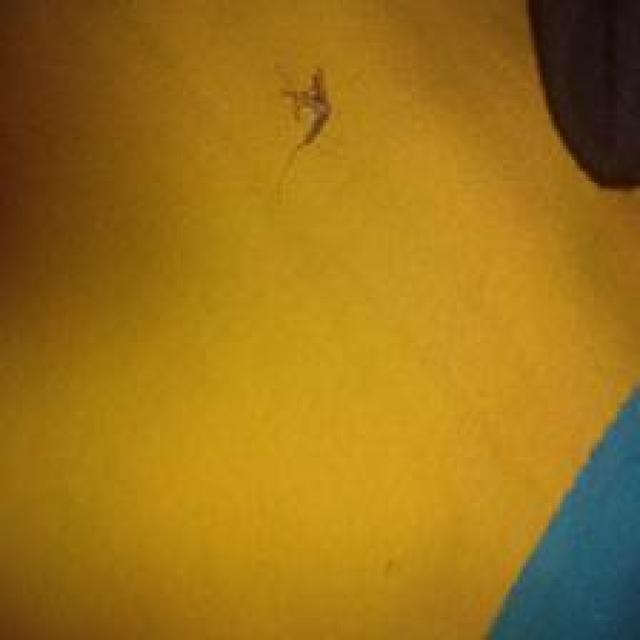Culex: (272, 66, 332, 206)
